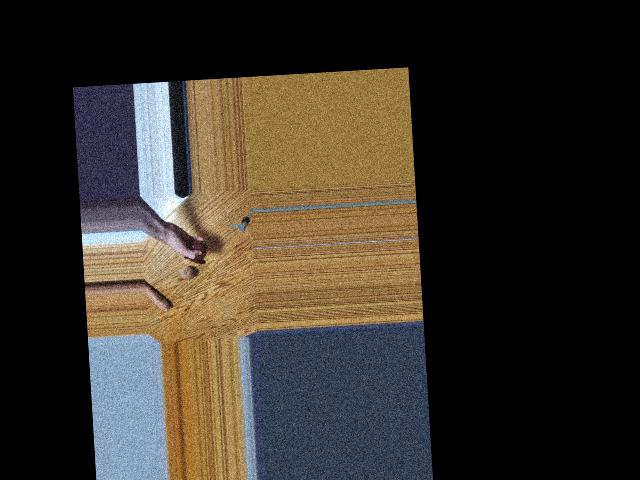onion: (175, 260, 194, 279)
